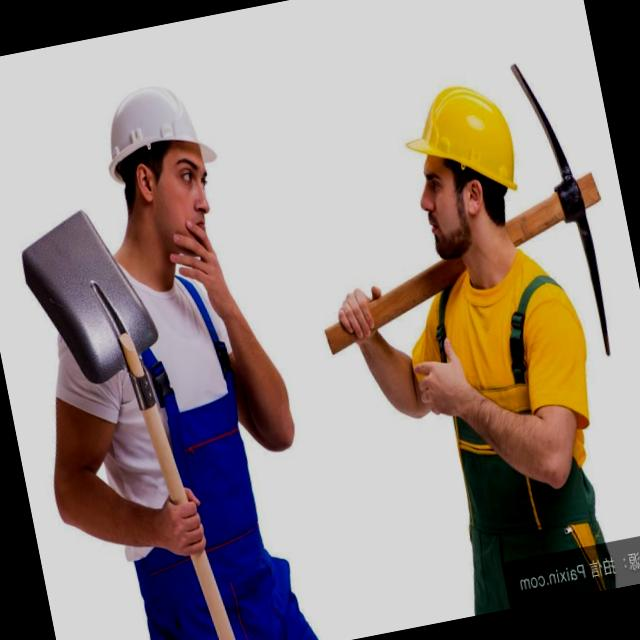helmet: (394, 75, 526, 212), (93, 76, 219, 176)
no-vest: (38, 251, 283, 640), (393, 232, 624, 548)
